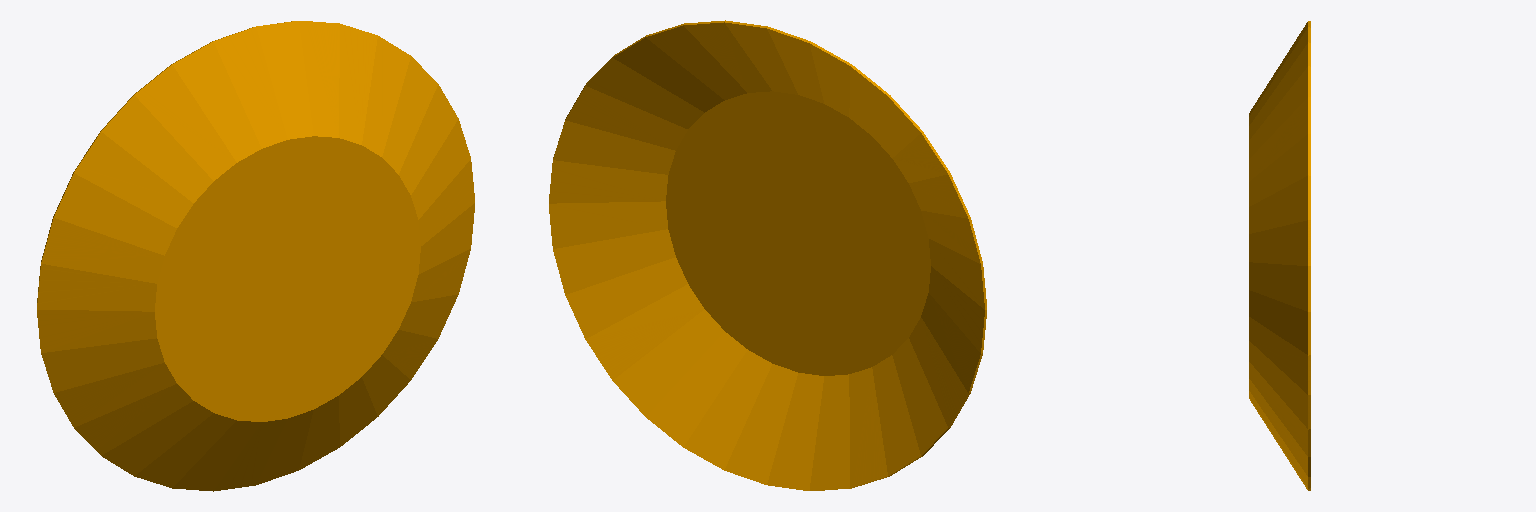
URDF robot description (cube):
<?xml version="1.0"?>
<robot name="cube">
    <link name="cube">
        <visual>
            <geometry>
                <mesh filename="./plate.obj" scale="0.1 0.1 0.1"/>
            </geometry>
        </visual>
        <collision>
            <geometry>
                <mesh filename="./plate.obj" scale="0.1 0.1 0.1"/>
            </geometry>
            <!-- <sdf resolution="512"/> -->
        </collision>
    </link>
</robot>

--- What the picture shows (computed from the rendered views, not written in the file) ---
The picture shows the robot from 3 angles, left to right: view 1: azimuth 30°, elevation 25°; view 2: azimuth 150°, elevation 25°; view 3: azimuth 270°, elevation 25°; orthographic projection.
Robot: cube — 1 links, 0 joints (none); root link cube; default pose: all joints at 0.
Visible links, largest first — view 1: cube; view 2: cube; view 3: cube.
Link boxes in pixels (x1,y1,x2,y2): cube: [37, 21, 474, 491]; cube: [549, 20, 986, 490]; cube: [1249, 21, 1310, 490].
Bounding box of the posed robot: 0.0092 × 0.0012 × 0.0092 m (x, y, z).
1 mesh visuals loaded from 1 distinct referenced files (1 OBJ).